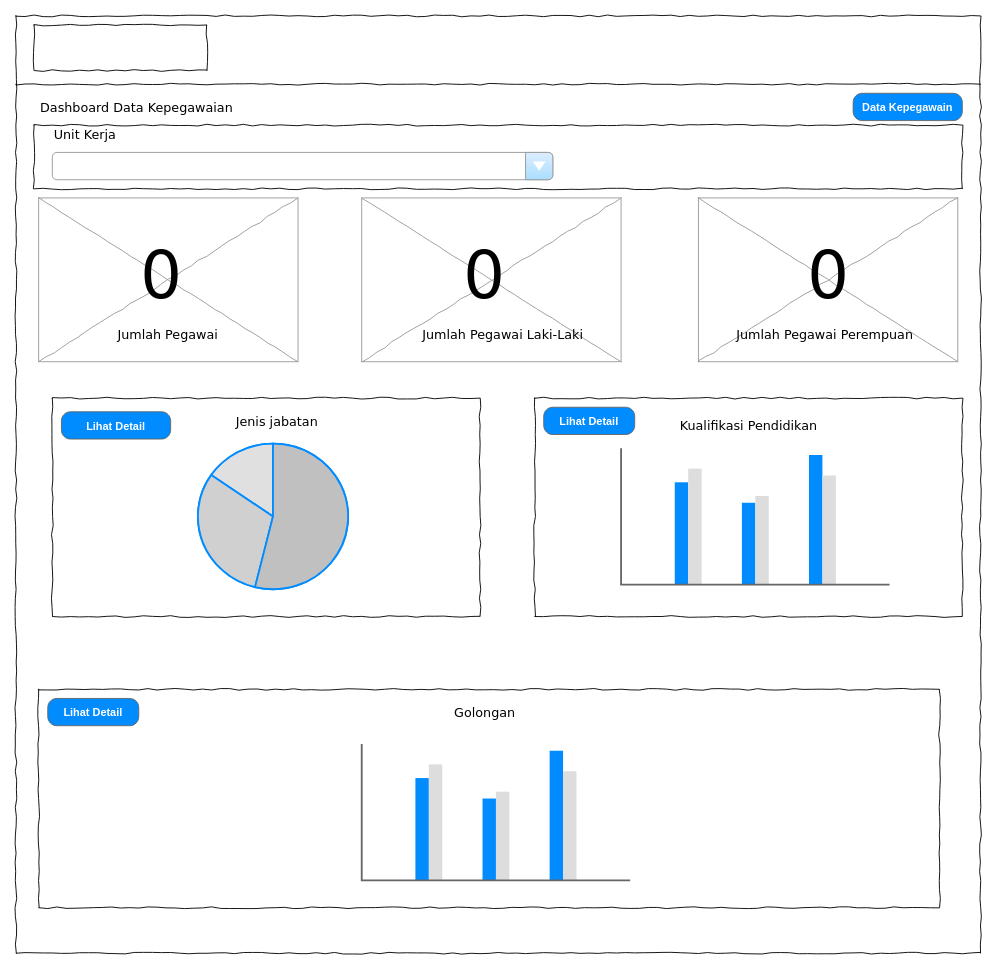
This 996x969 diagram has some shape labels left out. The centre of each missing label's shape, as x and y in pixels:
--Piih--: (x=302, y=166)
LOGO: (x=120, y=47)
